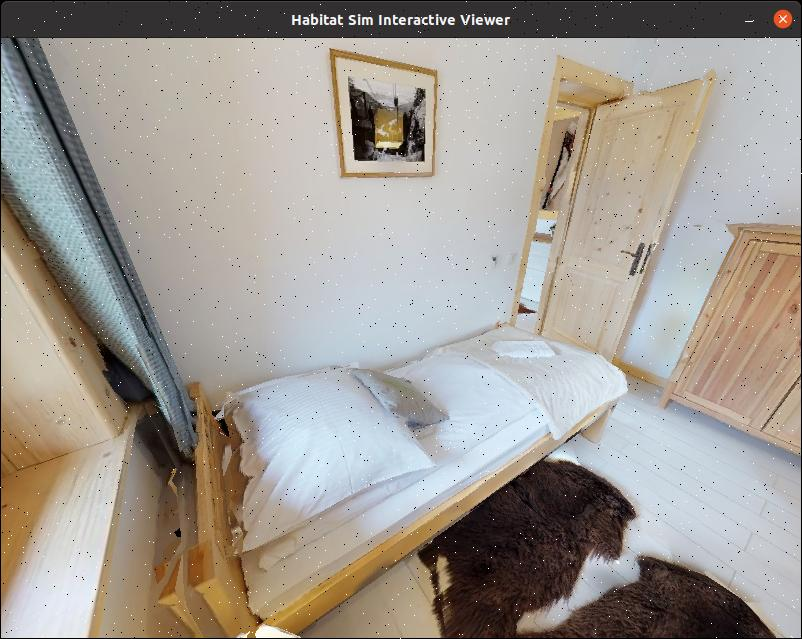bed: (137, 309, 643, 637)
door: (552, 75, 731, 368)
door-frame: (507, 57, 602, 346)
